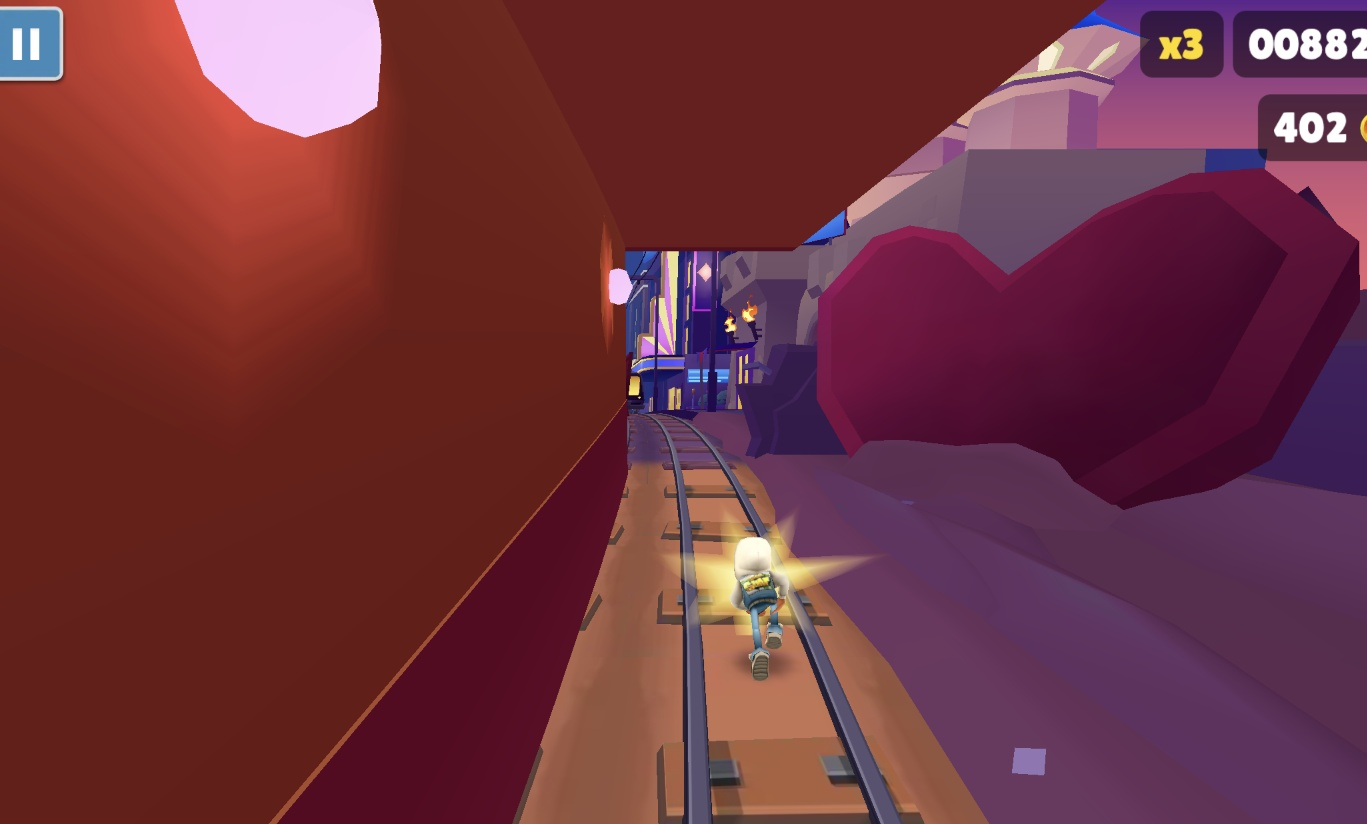pillar: (0, 0, 634, 824)
train: (627, 372, 647, 412)
